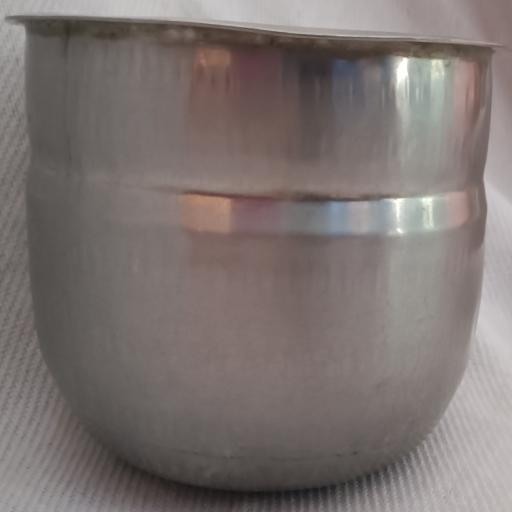vessel: (10, 16, 493, 490)
